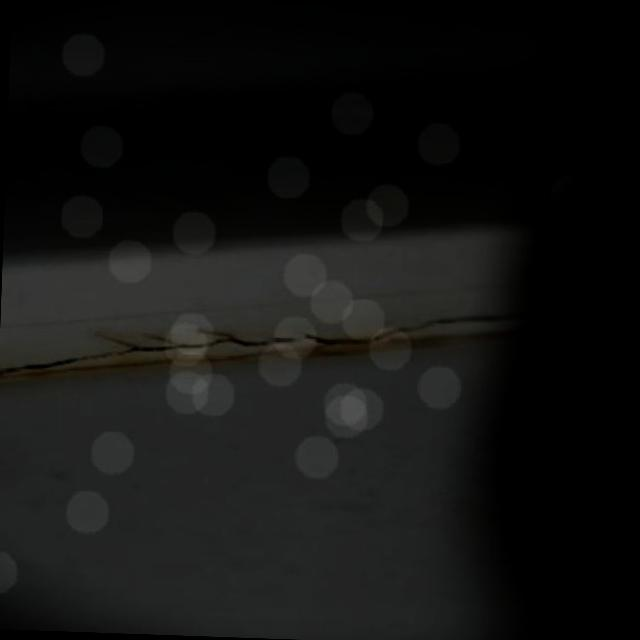crack: (5, 347, 125, 374), (240, 332, 385, 352), (126, 332, 234, 355), (388, 317, 464, 340), (466, 308, 544, 328)
